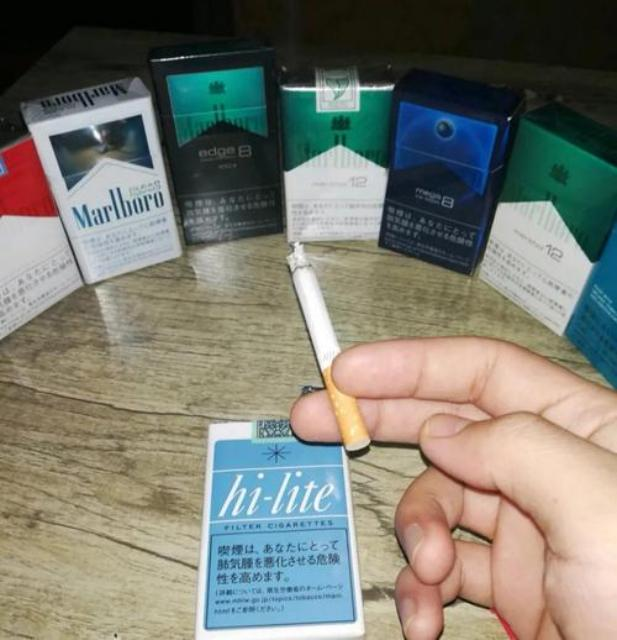Cigarette: (286, 241, 372, 451)
